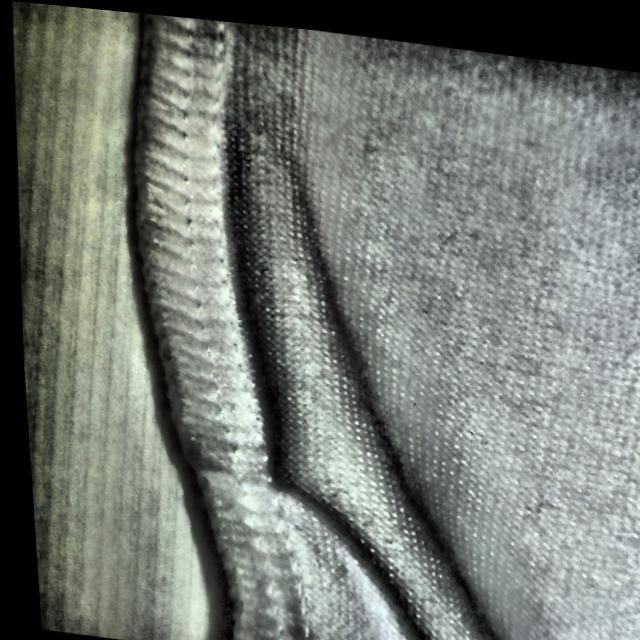seam: (153, 331, 426, 568)
